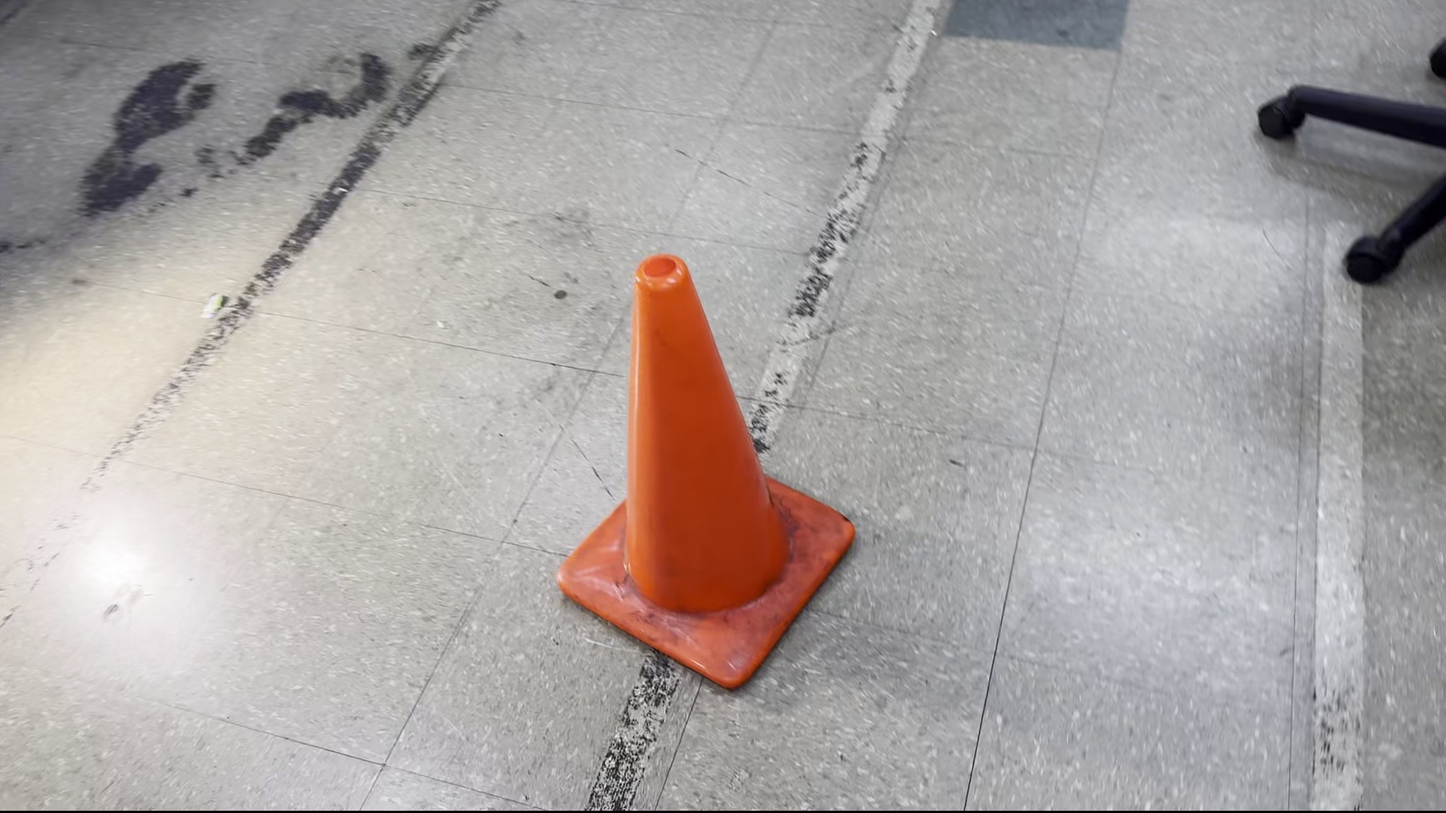traffic_cone: (556, 252, 856, 691)
